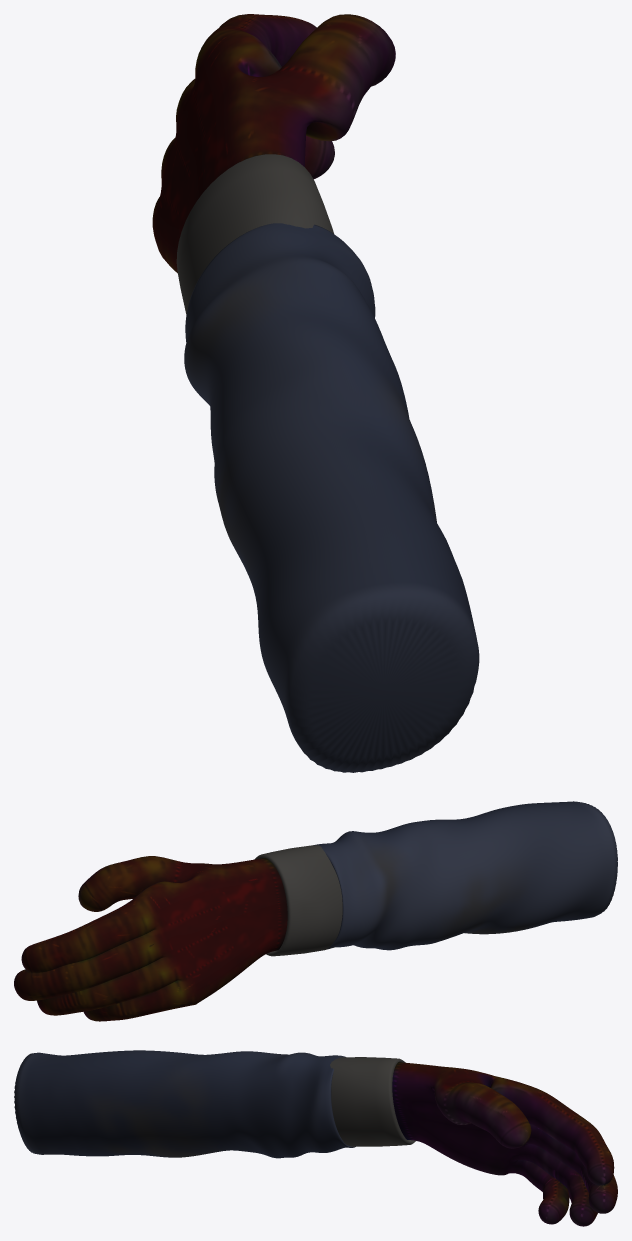
The model's file is fp_hand_L_relaxed.glb.
3 renders of one model, top to bottom at view 1: azimuth 30°, elevation 25°; view 2: azimuth 150°, elevation 25°; view 3: azimuth 270°, elevation 25°, orthographic. The views are drawn at different scales.
Parts seen in each view (by area): view 1: fp_hand_L_relaxed; view 2: fp_hand_L_relaxed; view 3: fp_hand_L_relaxed.
Part boxes in pixels (bbox=[...]): fp_hand_L_relaxed: bbox=[152, 14, 479, 772]; fp_hand_L_relaxed: bbox=[14, 801, 617, 1021]; fp_hand_L_relaxed: bbox=[14, 1050, 617, 1226].
Bounding box in the file's own units: 0.2468 × 0.1275 × 0.4329.
Materials: 3 (1 with a texture image).
